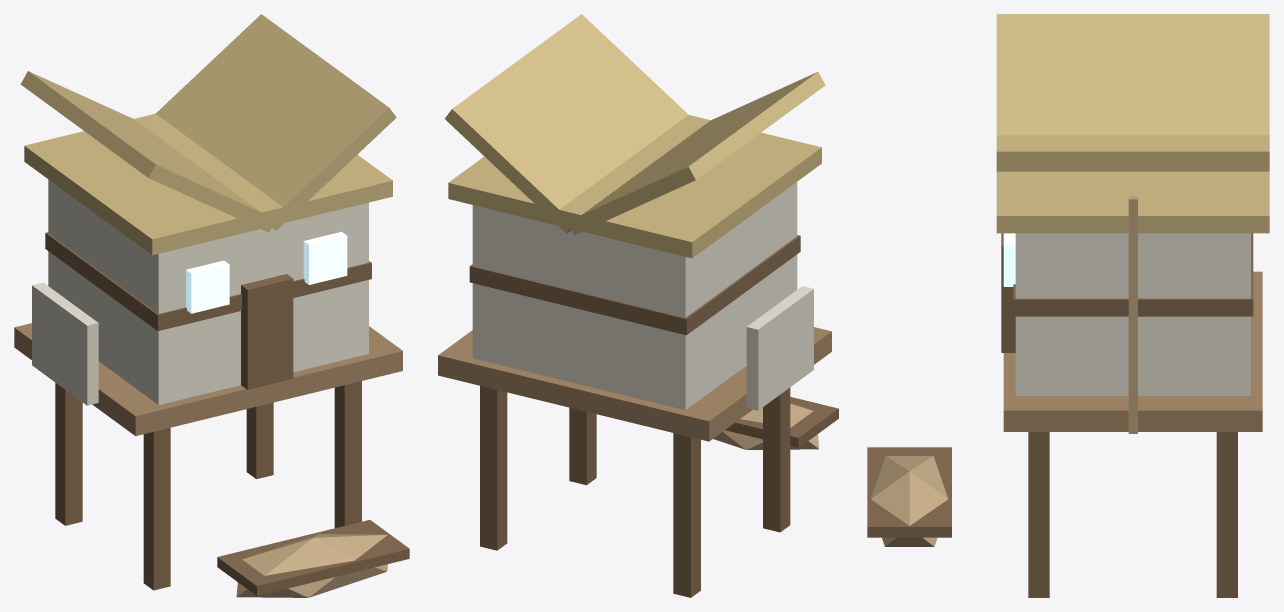
File: fishery.glb
The picture shows the model from 3 angles, left to right: view 1: azimuth 30°, elevation 25°; view 2: azimuth 150°, elevation 25°; view 3: azimuth 270°, elevation 25°; orthographic projection. The views are drawn at different scales.
Parts seen in each view (by area): view 1: Pile-0.5-0.4; view 2: Pile-0.5-0.4; view 3: Pile-0.5-0.4.
Part boxes in pixels (x1=…): Pile-0.5-0.4: x1=14, y1=14, x2=409, y2=597; Pile-0.5-0.4: x1=438, y1=14, x2=838, y2=597; Pile-0.5-0.4: x1=867, y1=14, x2=1269, y2=597.
Bounding box in the file's own units: 1.5 × 2.2 × 1.71.
